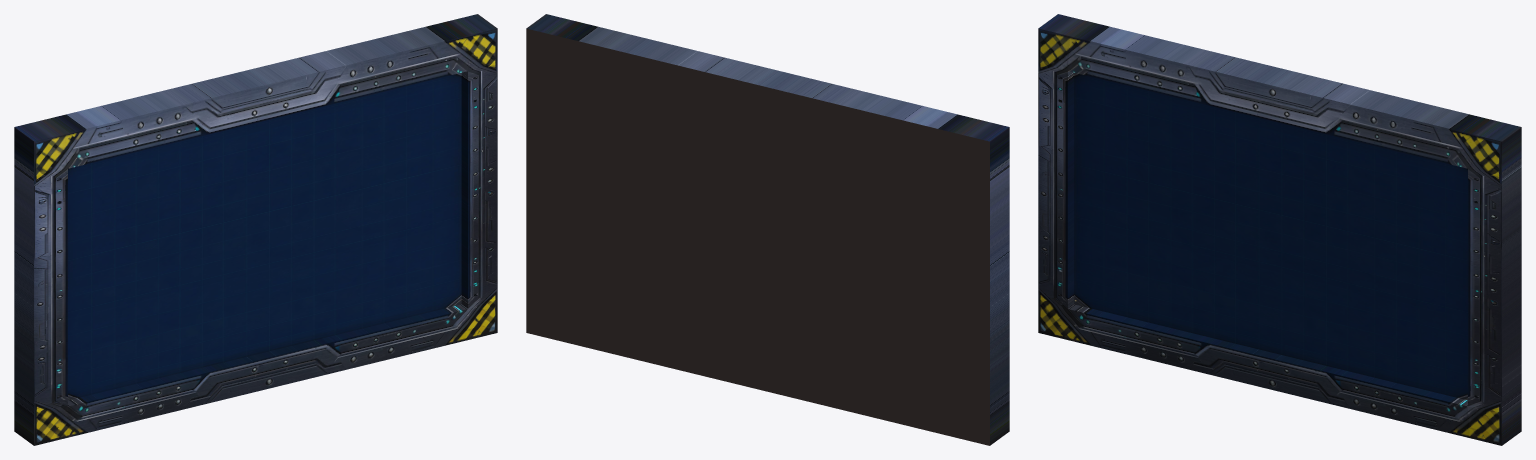
The model's file is panel_miss.glb.
3 renders of one model, left to right at view 1: azimuth 30°, elevation 25°; view 2: azimuth 150°, elevation 25°; view 3: azimuth 330°, elevation 25°, orthographic.
Parts seen in each view (by area): view 1: panel_miss; view 2: panel_miss; view 3: panel_miss.
Part boxes in pixels (x1,y1,x2,y2): panel_miss: (14,14,497,445); panel_miss: (526,14,1009,445); panel_miss: (1038,14,1521,445).
Size of the model in its own units: 0.51 by 0.32 by 0.042.
1 material, 1 textured.
